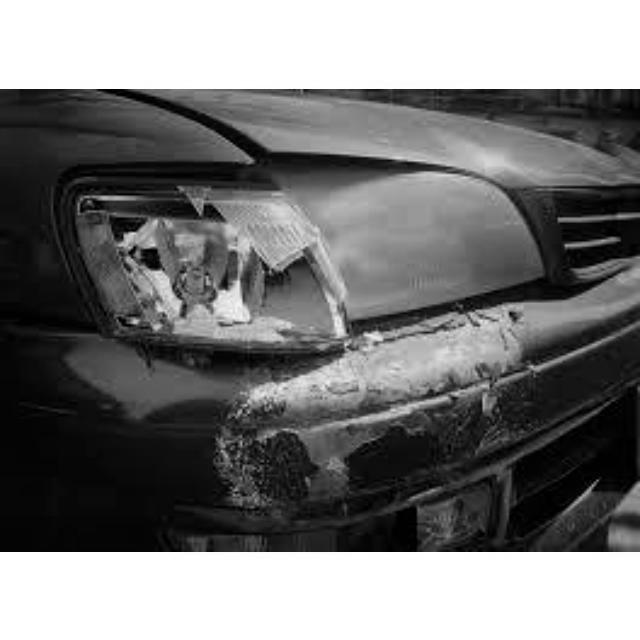Headlight-damage: (27, 140, 349, 355)
front-bumper-dent: (12, 297, 632, 549)
